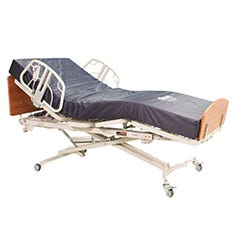trolley_bed: (5, 55, 230, 203)
